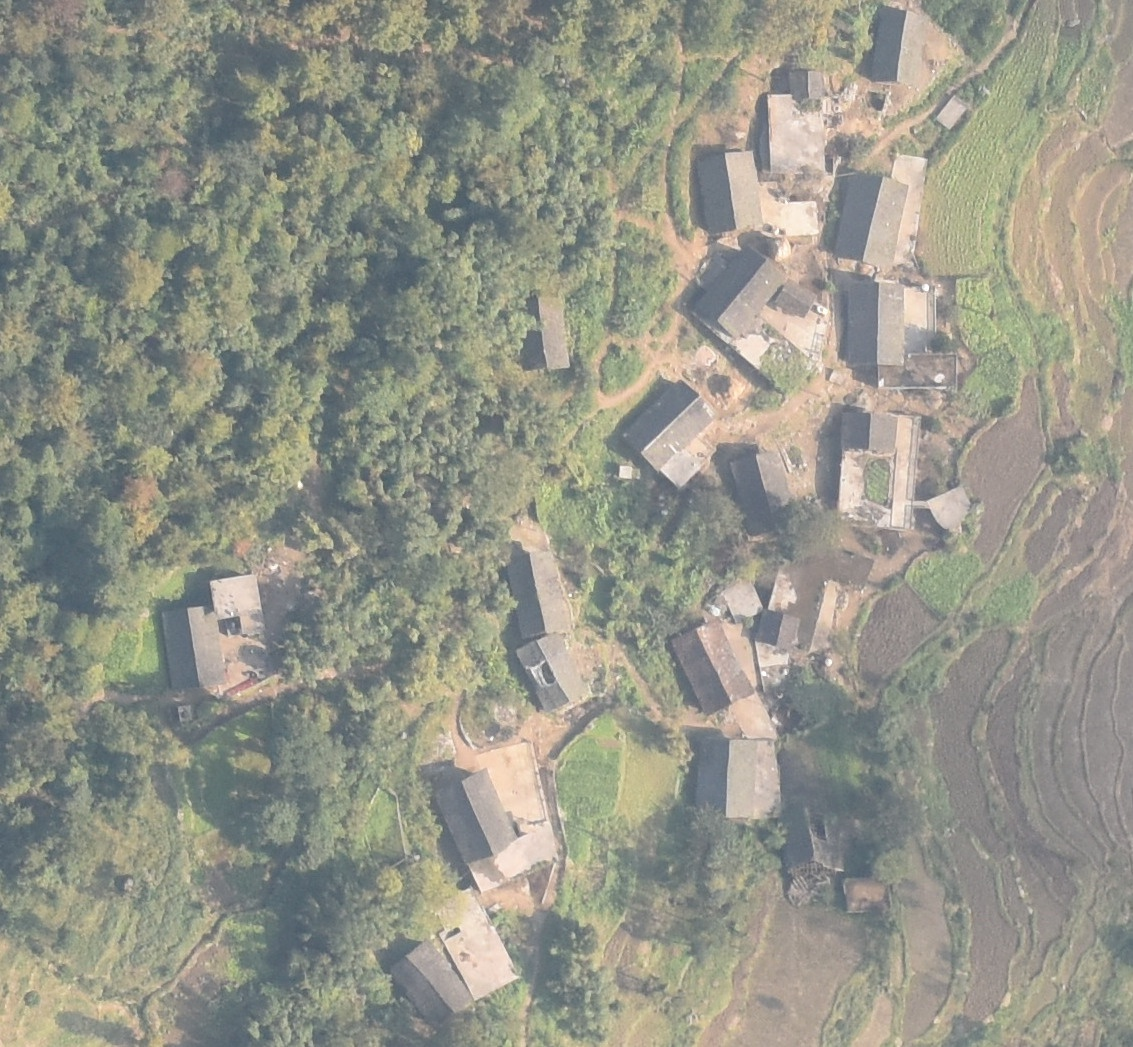building: (694, 246, 789, 338), (622, 380, 715, 473), (434, 768, 518, 864), (437, 909, 521, 1000), (672, 626, 754, 714), (391, 942, 475, 1027), (836, 173, 907, 261), (160, 604, 230, 691), (516, 635, 593, 711), (507, 551, 573, 639), (695, 151, 762, 232), (730, 455, 797, 536), (695, 737, 759, 820), (845, 282, 907, 367), (766, 92, 828, 176), (778, 803, 846, 876), (512, 293, 570, 371), (887, 154, 926, 262), (870, 9, 924, 85), (209, 573, 268, 635), (877, 349, 960, 392), (839, 412, 901, 458), (777, 279, 816, 320), (760, 611, 803, 647), (791, 70, 827, 99), (938, 96, 970, 128)
